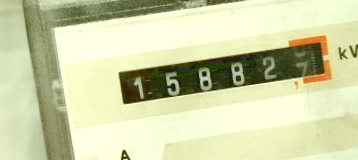1: (129, 72, 147, 101)
2: (258, 53, 278, 82)
5: (161, 68, 182, 97)
7: (292, 58, 310, 77)
8: (193, 64, 213, 93), (227, 58, 246, 88)
screen: (101, 25, 343, 119)
